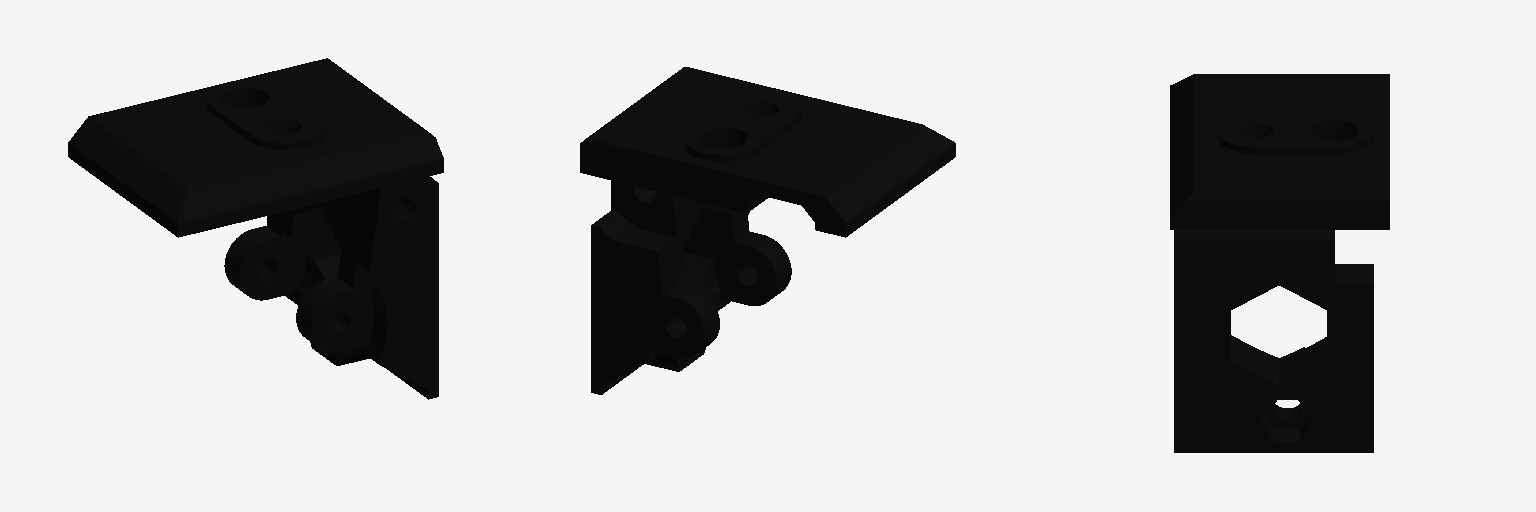
File: E_STD.obj
3 views of the same model, side by side, from view 1: azimuth 30°, elevation 25°; view 2: azimuth 150°, elevation 25°; view 3: azimuth 270°, elevation 25° (orthographic).
Visible parts, largest first — view 1: patch0; view 2: patch0; view 3: patch0.
Part boxes in pixels (x1,y1,x2,y2): patch0: (68,58,443,399); patch0: (580,67,955,394); patch0: (1170,74,1389,452).
Size of the model in its own units: 39 by 37.52 by 28.